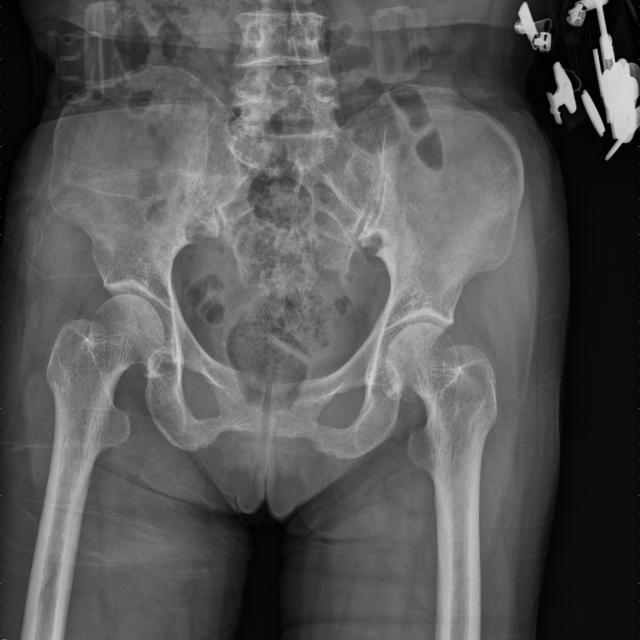normal-left: (386, 322, 497, 579)
normal-right: (30, 294, 164, 580)
